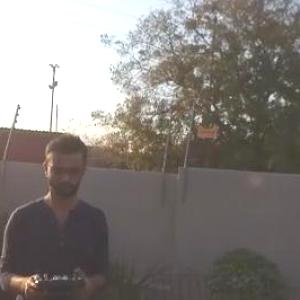follow: (0, 125, 114, 299)
